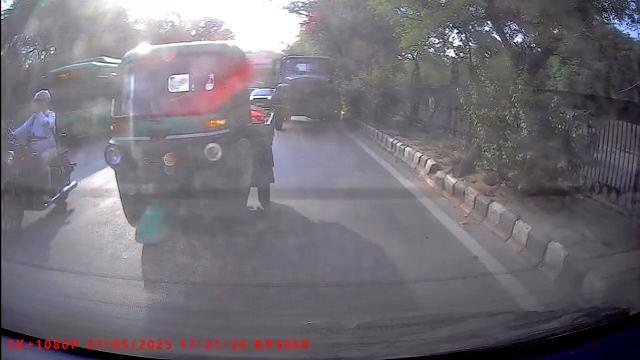motorcycle_with_helmet: (1, 90, 77, 235)
